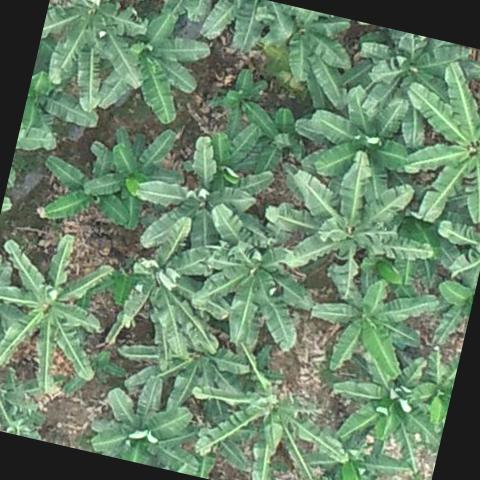Banana-plant: (256, 148, 449, 308), (188, 347, 354, 480), (0, 225, 127, 398), (127, 126, 278, 266), (190, 204, 328, 356), (107, 215, 242, 361), (320, 343, 450, 472), (299, 82, 428, 204), (93, 5, 216, 130), (27, 0, 156, 115), (303, 272, 431, 384), (107, 322, 252, 420), (389, 69, 480, 224), (354, 25, 480, 129), (88, 370, 210, 476), (33, 130, 142, 238), (258, 2, 360, 103), (84, 123, 177, 220), (299, 423, 389, 480)
